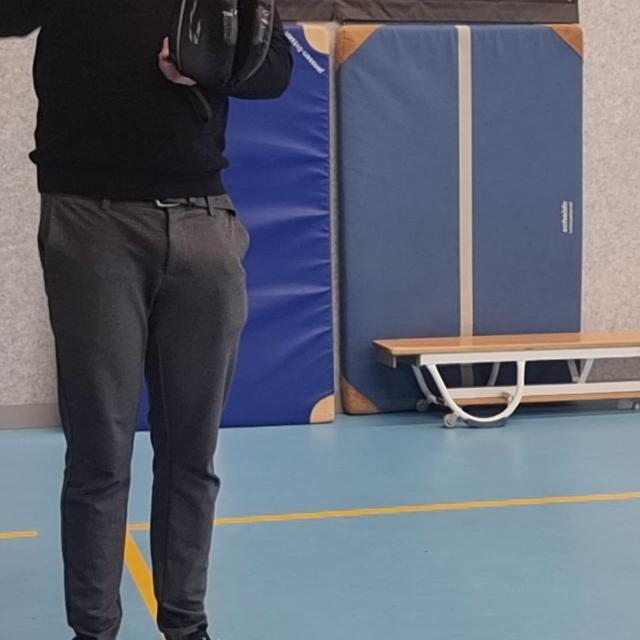paddle: (165, 0, 271, 83)
